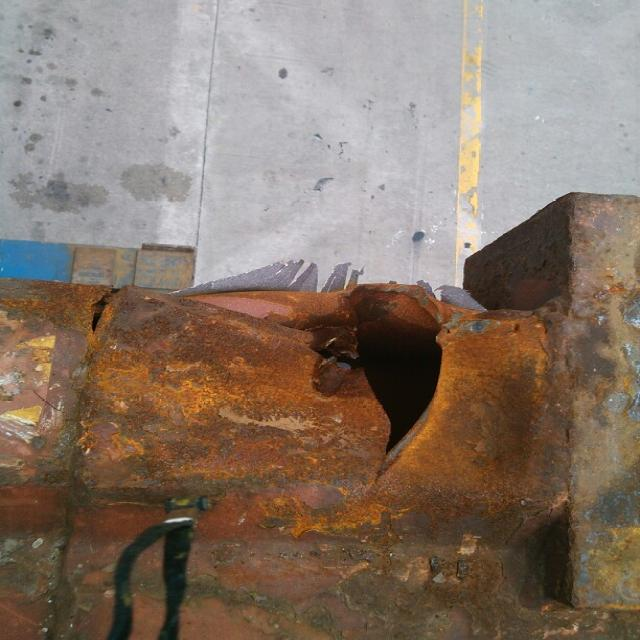hole: (318, 271, 476, 487)
